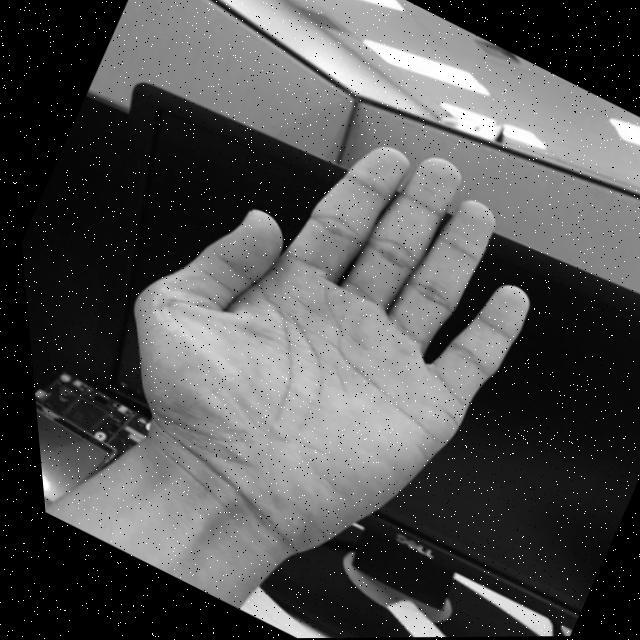no-gloves: (38, 53, 596, 604)
